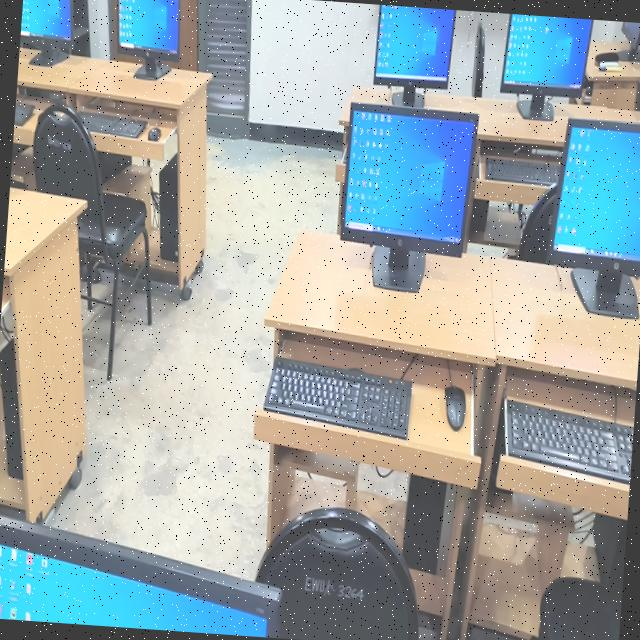Chair: (32, 103, 147, 378), (255, 507, 417, 640), (529, 576, 622, 640), (471, 21, 483, 96)
Cpu: (401, 473, 454, 573), (0, 339, 21, 477), (158, 152, 177, 260)
Keyboard: (262, 354, 411, 437), (502, 398, 633, 483), (483, 150, 558, 185), (78, 111, 145, 137), (13, 101, 32, 124)
Monitor: (339, 100, 476, 291), (545, 117, 640, 317), (500, 12, 591, 118), (372, 3, 454, 106), (116, 0, 179, 78), (19, 0, 70, 38), (620, 20, 640, 47)
Mouse: (444, 384, 464, 429), (146, 126, 160, 139)
